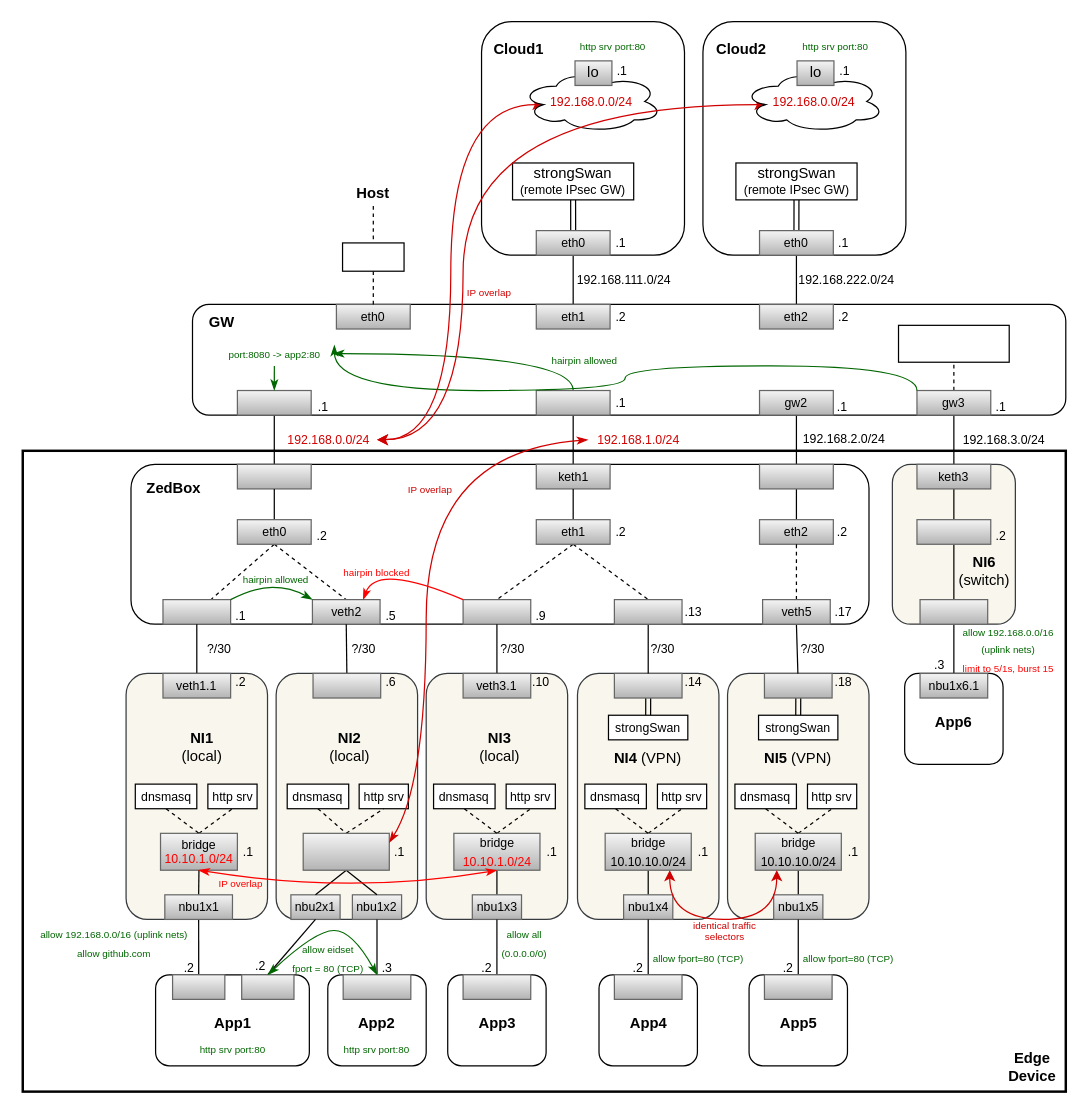
The diagram is 1087 pixels wide and 1114 high, and some of its shapes have lost their labels. The box of each missing label's shape, as (x1, y1, x2, y2) in pixels:
bridge 192.168.1.0/24: (302, 832, 389, 870)
dnsmasq (external DNS): (897, 324, 1009, 362)
eth3: (916, 518, 991, 544)
gw0: (236, 389, 311, 415)
gw1: (535, 389, 610, 415)
keth0: (236, 463, 311, 489)
keth2: (758, 463, 833, 489)
NAT: (341, 242, 404, 271)
nbu1x1 .1: (171, 974, 225, 999)
nbu1x2 .1: (342, 974, 411, 999)
nbu1x3 .1: (462, 974, 531, 999)
nbu1x4 .1: (613, 974, 682, 999)
nbu1x5 .1: (763, 974, 832, 999)
nbu1x6: (919, 598, 988, 624)
nbu2x1 .1: (240, 974, 294, 999)
veth1: (162, 598, 231, 624)
veth2 .1: (312, 672, 381, 698)
veth3: (462, 598, 531, 624)
veth4: (613, 598, 682, 624)
veth4 .1: (613, 672, 682, 698)
veth5 .1: (763, 672, 832, 698)
